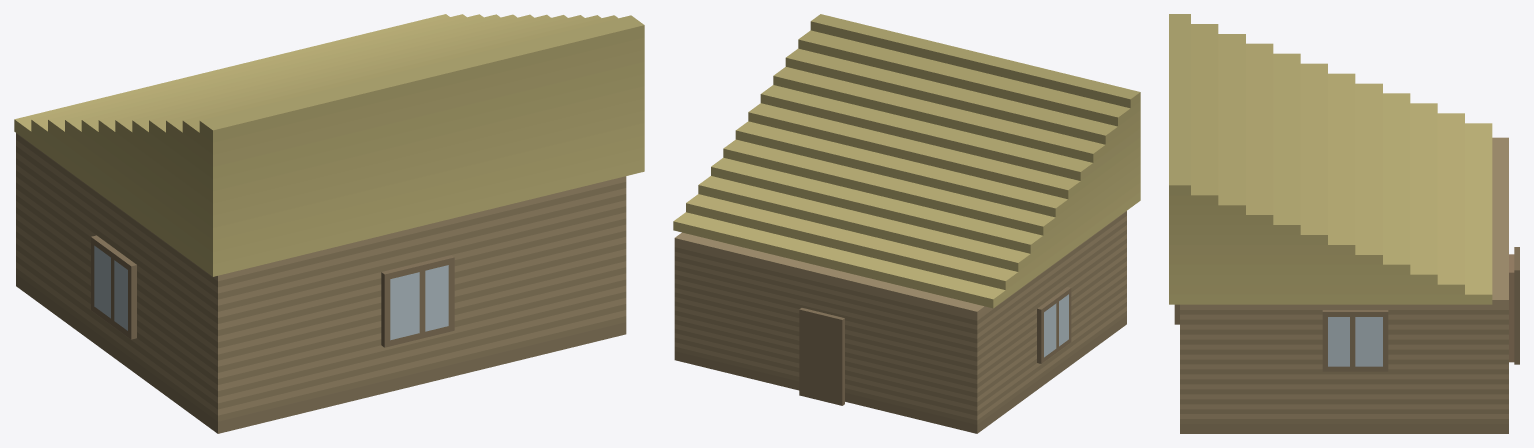
File: barco_encallado_01.glb
3 renders of one model, left to right at view 1: azimuth 30°, elevation 25°; view 2: azimuth 150°, elevation 25°; view 3: azimuth 270°, elevation 25°, orthographic. The views are drawn at different scales.
Parts seen in each view (by area): view 1: barco_encallado_01; view 2: barco_encallado_01; view 3: barco_encallado_01.
Boxes of the visible parts, x1,y1,x2,y2 form: barco_encallado_01: (14,14,644,433); barco_encallado_01: (673,14,1140,433); barco_encallado_01: (1169,14,1519,433).
Size of the model in its own units: 7.4 by 5.1 by 6.4.
